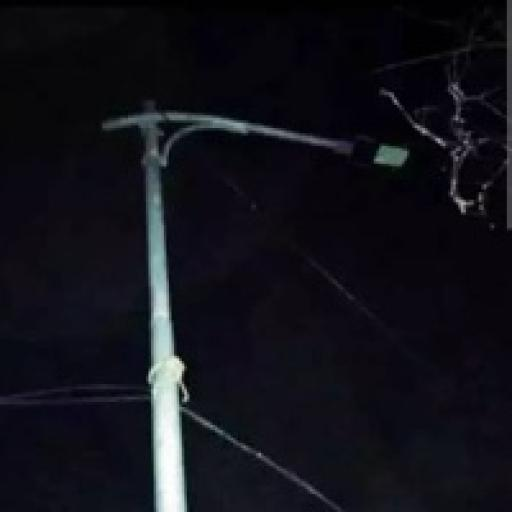Not Working: (336, 123, 416, 186)
